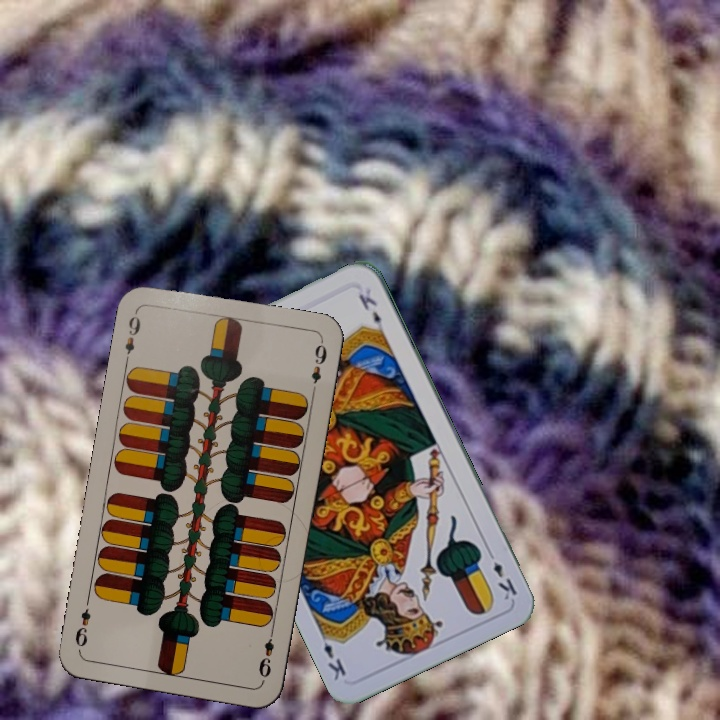E9: (120, 307, 143, 365), (254, 624, 277, 680)
EK: (483, 545, 520, 603)
